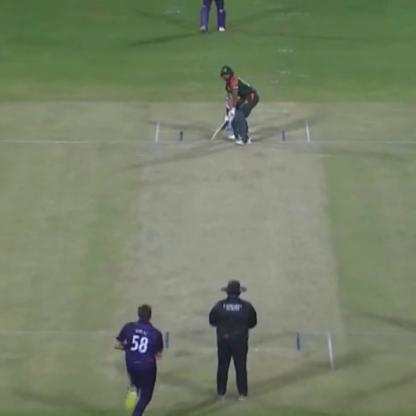bat: (210, 106, 234, 142)
pitch: (146, 116, 338, 376)
